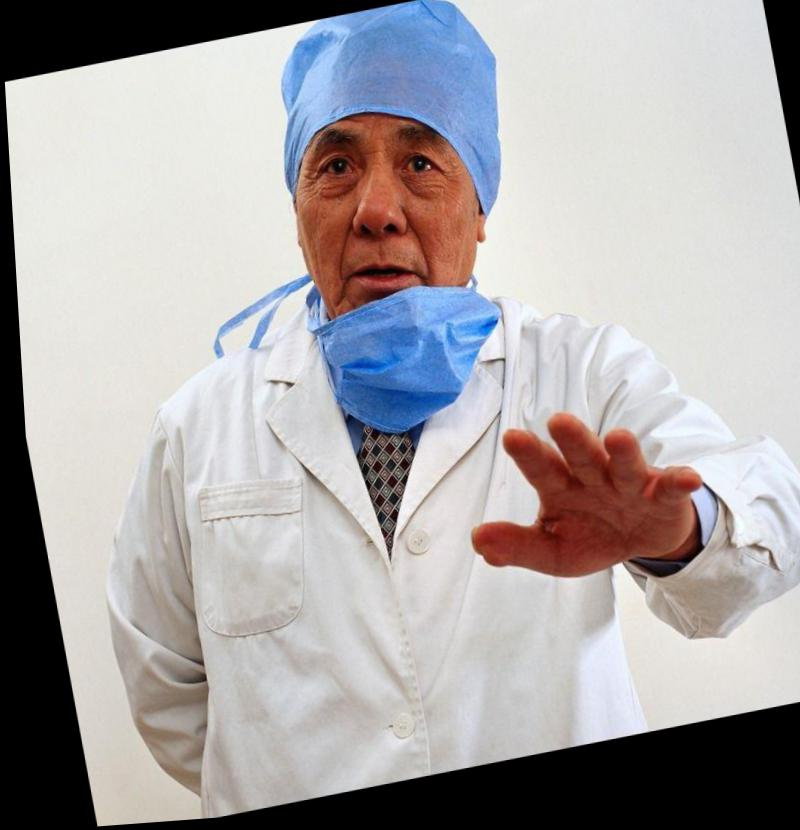WRONG: (270, 100, 511, 395)
